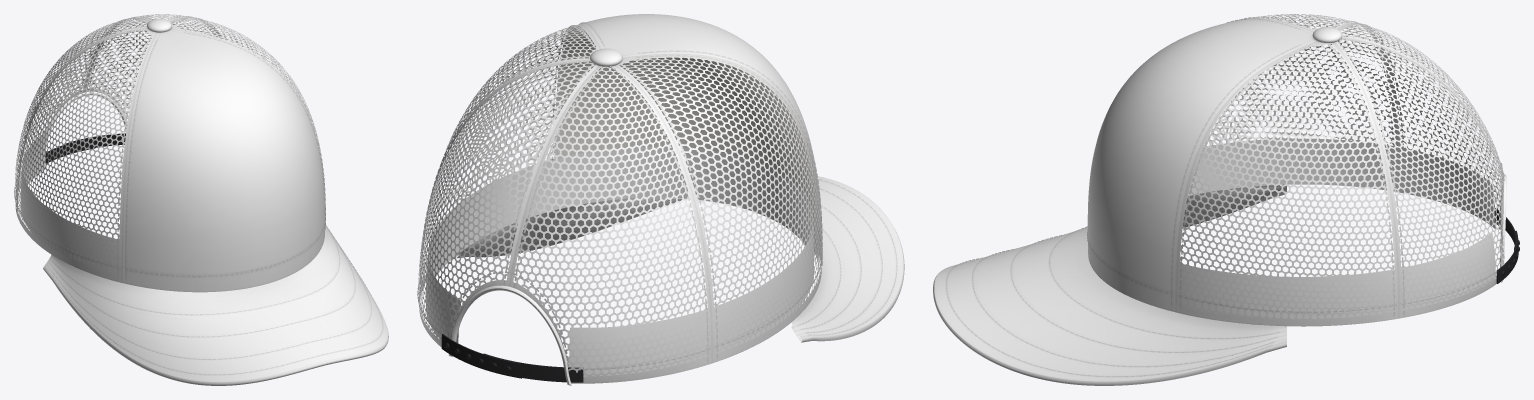
File: trucker.glb
The picture shows the model from 3 angles, left to right: view 1: azimuth 30°, elevation 25°; view 2: azimuth 150°, elevation 25°; view 3: azimuth 270°, elevation 25°; orthographic projection. The views are drawn at different scales.
Parts seen in each view (by area): view 1: frente, aba, laterais, traseira, suador, costura-aba, aba-sanduiche, costura-laterais, costura-frente, fixo__regulador, costura-traseira, traseira__vies; view 2: traseira, laterais, suador, fixo__forro, aba, frente, aba-baixo, costura-traseira, fixo__regulador, costura-laterais, costura-aba, traseira__vies (+4 smaller); view 3: laterais, frente, aba, traseira, suador, costura-aba, aba-sanduiche, costura-laterais, costura-traseira, aba-baixo, costura-frente, fixo__regulador.
Part boxes in pixels (x1,y1,x2,y2): frente: (122,29,324,292); aba: (44,225,388,382); laterais: (17,17,325,282); traseira: (15,14,217,215); suador: (20,131,119,275); costura-aba: (50,225,383,375); aba-sanduiche: (43,267,388,385); costura-laterais: (17,17,325,276); costura-frente: (125,32,325,278); fixo__regulador: (45,133,125,163); costura-traseira: (14,16,214,211); traseira__vies: (46,91,127,142); traseira: (418,60,712,383); laterais: (421,24,821,363); suador: (425,146,813,376); fixo__forro: (558,28,818,268); aba: (460,176,903,337); frente: (557,14,821,260); aba-baixo: (457,197,821,342); costura-traseira: (417,61,710,370); fixo__regulador: (441,334,583,382); costura-laterais: (422,25,822,358); costura-aba: (798,179,897,335); traseira__vies: (448,285,571,385); laterais: (1176,14,1398,326); frente: (1087,18,1316,312); aba: (934,184,1286,381); traseira: (1333,23,1503,318); suador: (1179,138,1495,319); costura-aba: (945,226,1279,377); aba-sanduiche: (933,276,1286,385); costura-laterais: (1178,16,1396,316); costura-traseira: (1336,23,1504,314); aba-baixo: (1182,186,1286,228); costura-frente: (1087,18,1300,304); fixo__regulador: (1495,209,1519,283).
Bounding box in the file's own units: 1.7 × 1.49 × 2.75.
Materials: 9 (6 with a texture image).
